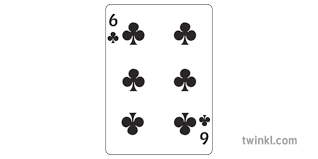six of clubs: (105, 4, 212, 155)
